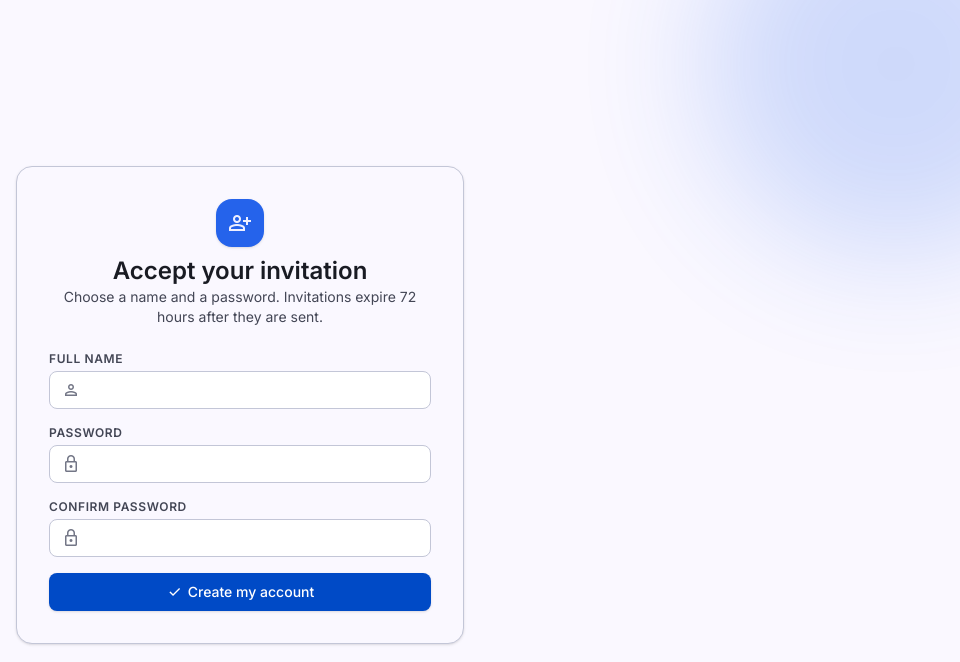
Test: AcceptInvitePage › shows the one unusable-invitation answer for an expired token
Type "Ana Nguyen" into the field labelled "Full name" at [240, 390], box [49, 371, 431, 409]
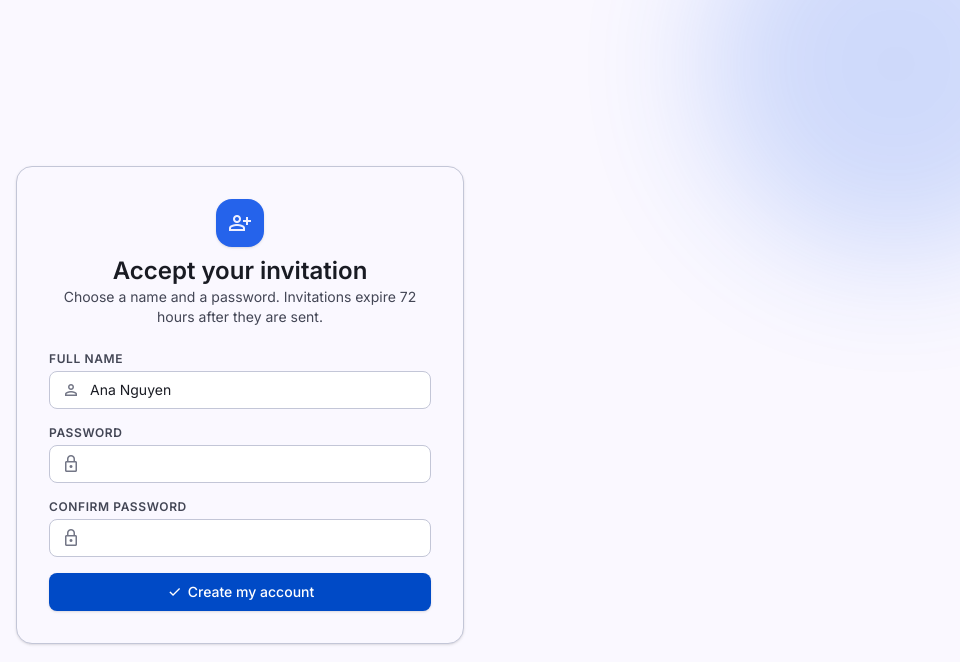
Type "Str0ng-Passw0rd!" into the password field labelled "Password" at [240, 464], box [49, 445, 431, 483]
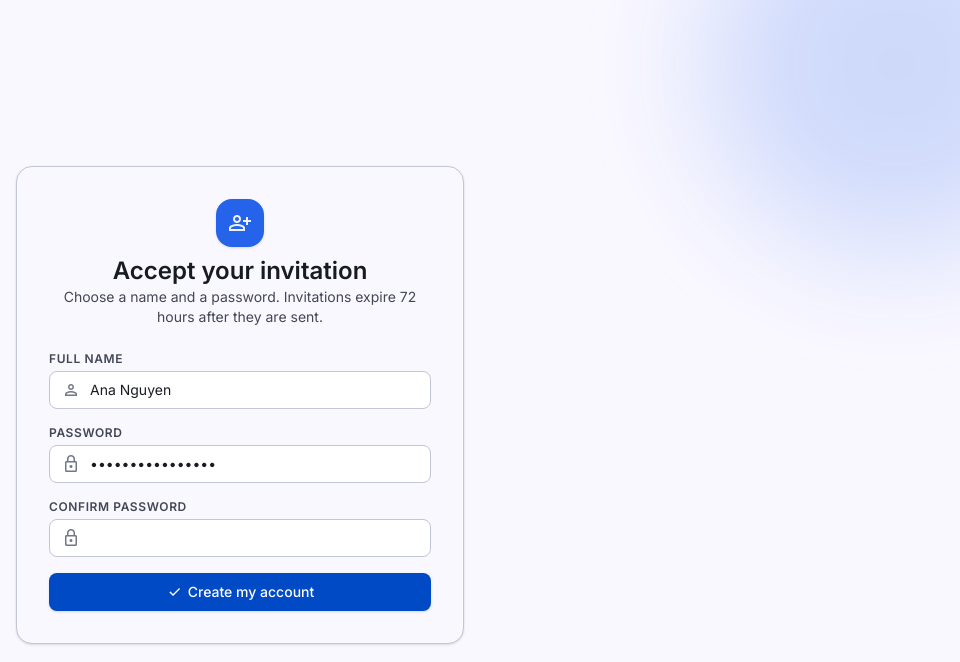
Type "Str0ng-Passw0rd!" into the password field labelled "Confirm password" at [240, 538], box [49, 519, 431, 557]
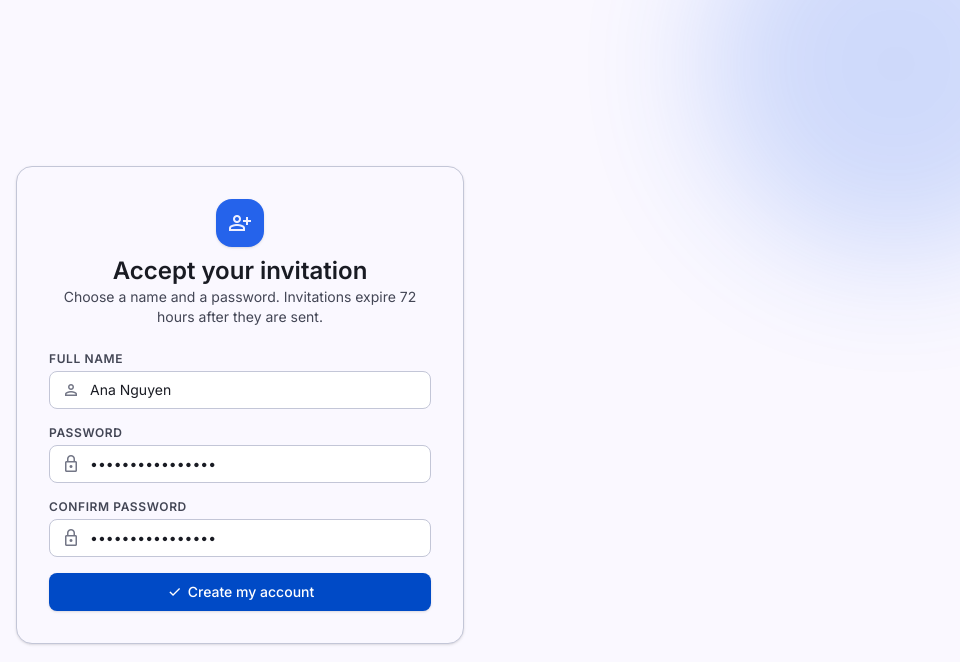
Click the button "Create my account" at [240, 592], box [49, 573, 431, 611]
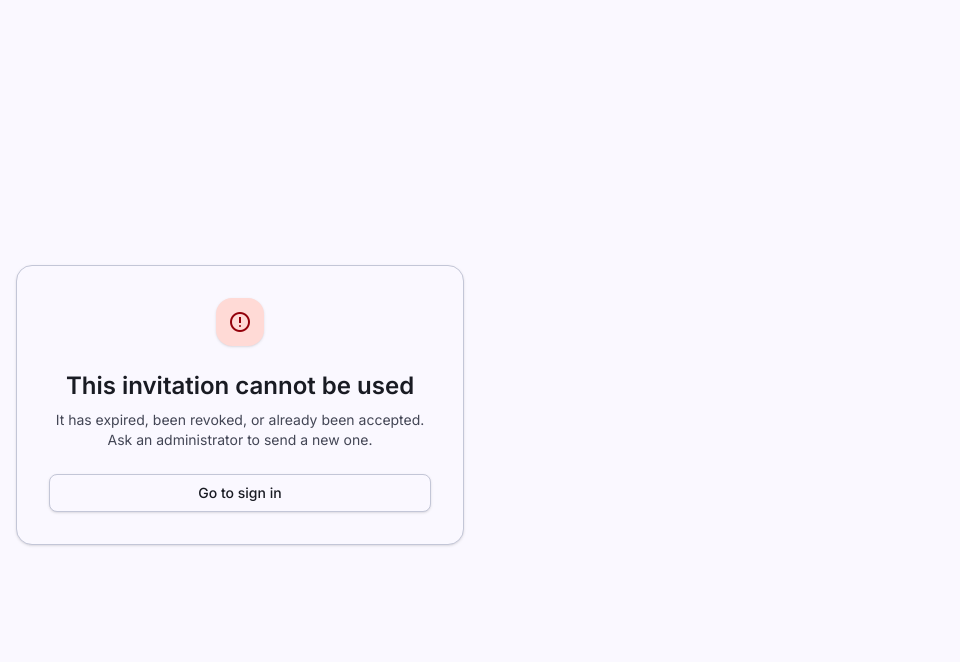
Check: the heading "This invitation cannot be used" is shown, box [49, 370, 431, 402]
